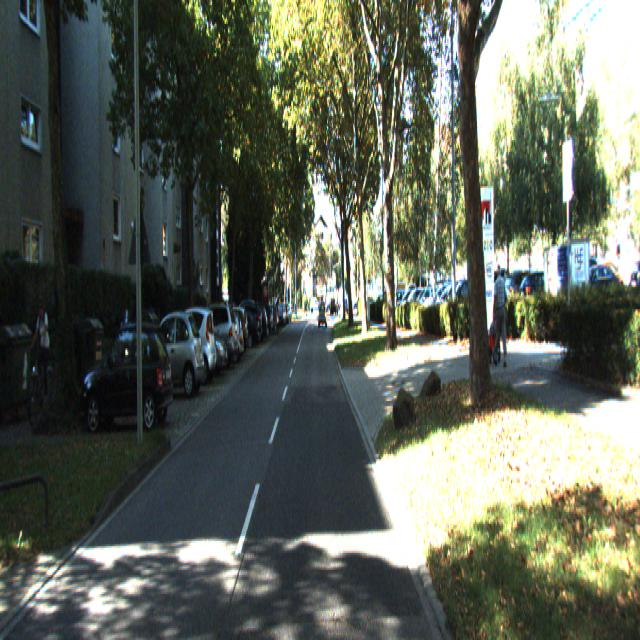Car: (80, 322, 174, 437), (138, 312, 206, 406), (158, 307, 219, 389), (184, 303, 238, 375), (216, 308, 249, 361), (224, 312, 260, 352), (237, 300, 268, 342), (243, 303, 273, 340)
